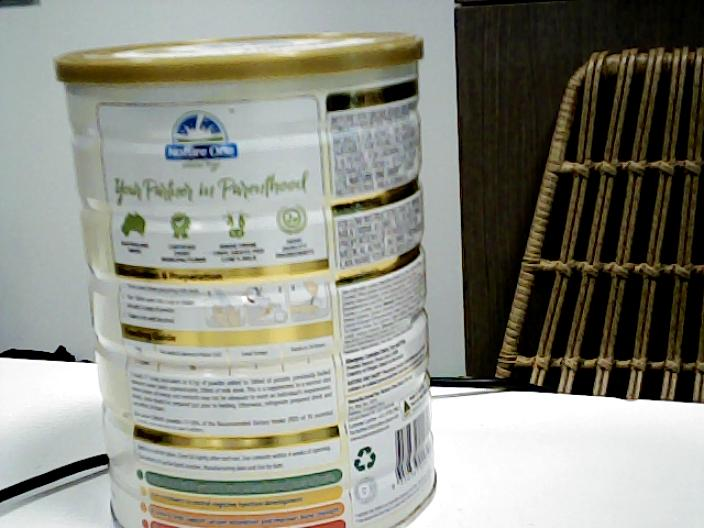Babymilk-powder_500-599g_NonHalal_NonHealthy: (54, 33, 438, 528)
